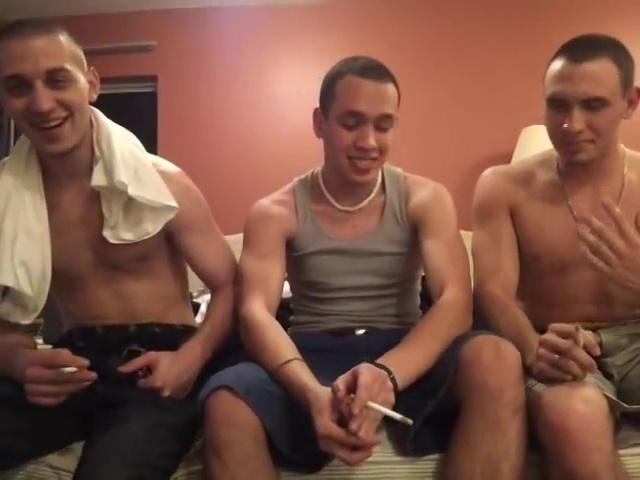cigarette: (364, 396, 418, 424), (572, 321, 585, 349), (54, 363, 83, 375)
